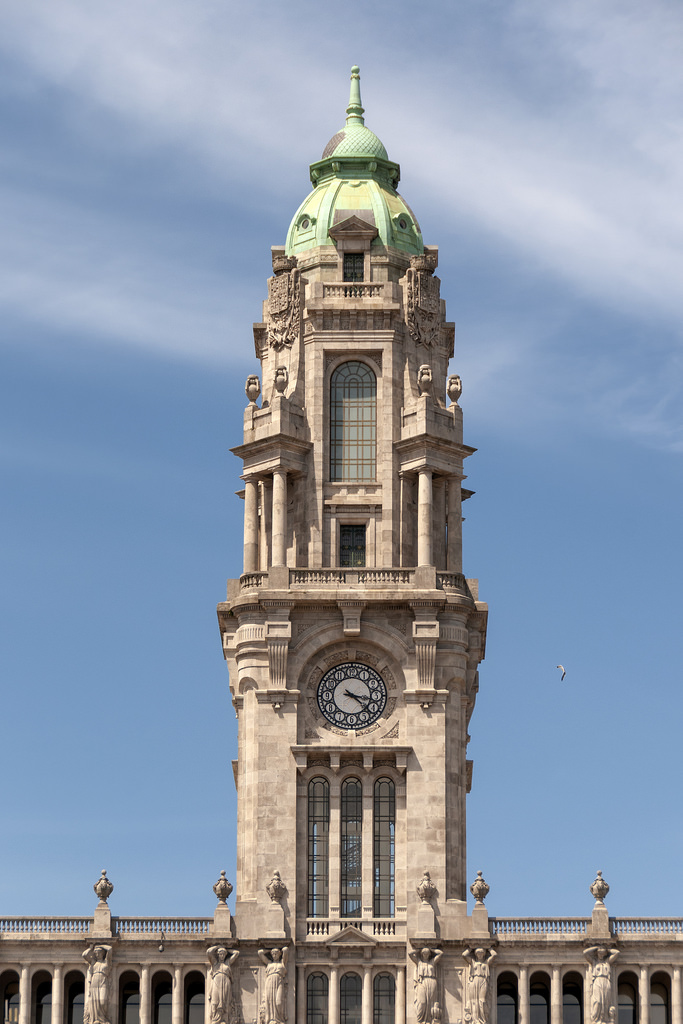camara: (0, 66, 682, 1023)
